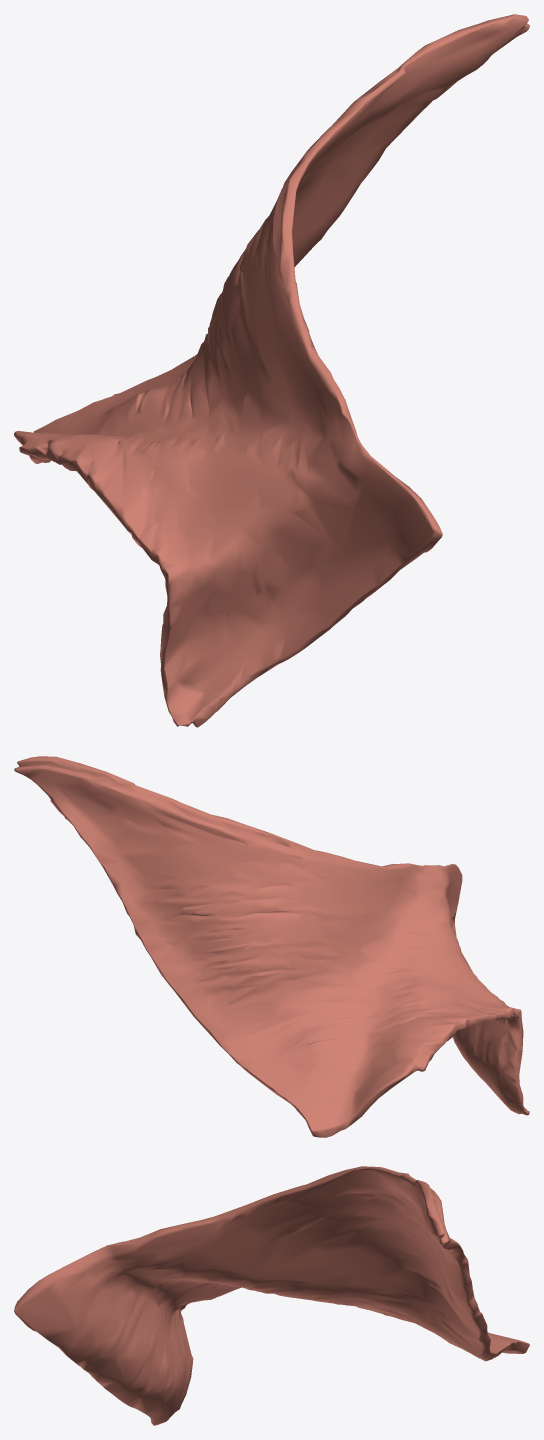
3 views of the same model, one above another, from view 1: azimuth 30°, elevation 25°; view 2: azimuth 150°, elevation 25°; view 3: azimuth 270°, elevation 25° (orthographic). The views are drawn at different scales.
Visible parts, largest first — view 1: 左侧颈阔肌; view 2: 左侧颈阔肌; view 3: 左侧颈阔肌.
Boxes of the visible parts, bbox=[...] form: 左侧颈阔肌: bbox=[14, 14, 529, 727]; 左侧颈阔肌: bbox=[14, 756, 529, 1137]; 左侧颈阔肌: bbox=[14, 1166, 529, 1425].
Size of the model in its own units: 0.212 by 0.1834 by 0.2094.
